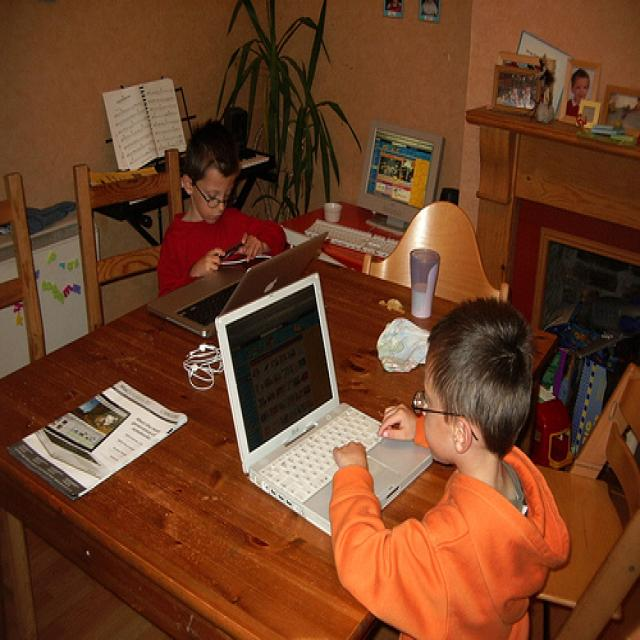chair: (532, 363, 640, 638), (75, 143, 183, 336), (362, 200, 509, 307), (0, 163, 56, 374)
dining table: (1, 302, 368, 631)
